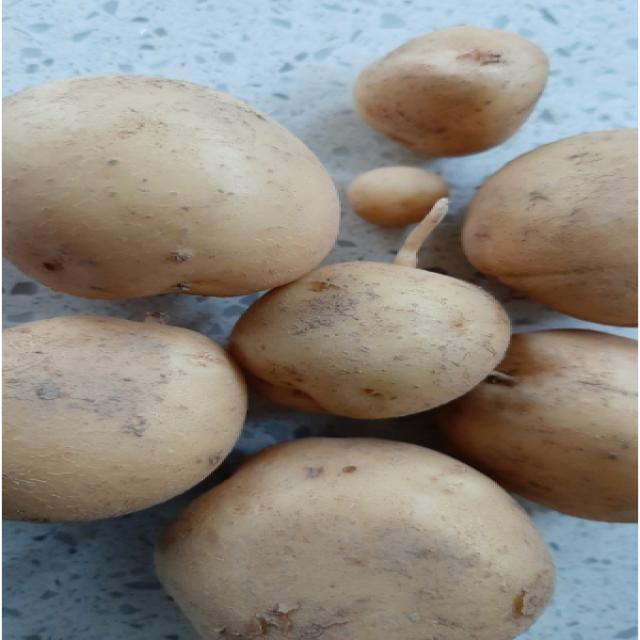potato: (158, 431, 563, 640), (0, 74, 353, 294), (2, 313, 257, 524), (223, 255, 509, 418), (437, 322, 640, 524), (452, 127, 640, 325), (350, 25, 554, 152), (354, 155, 448, 227)
